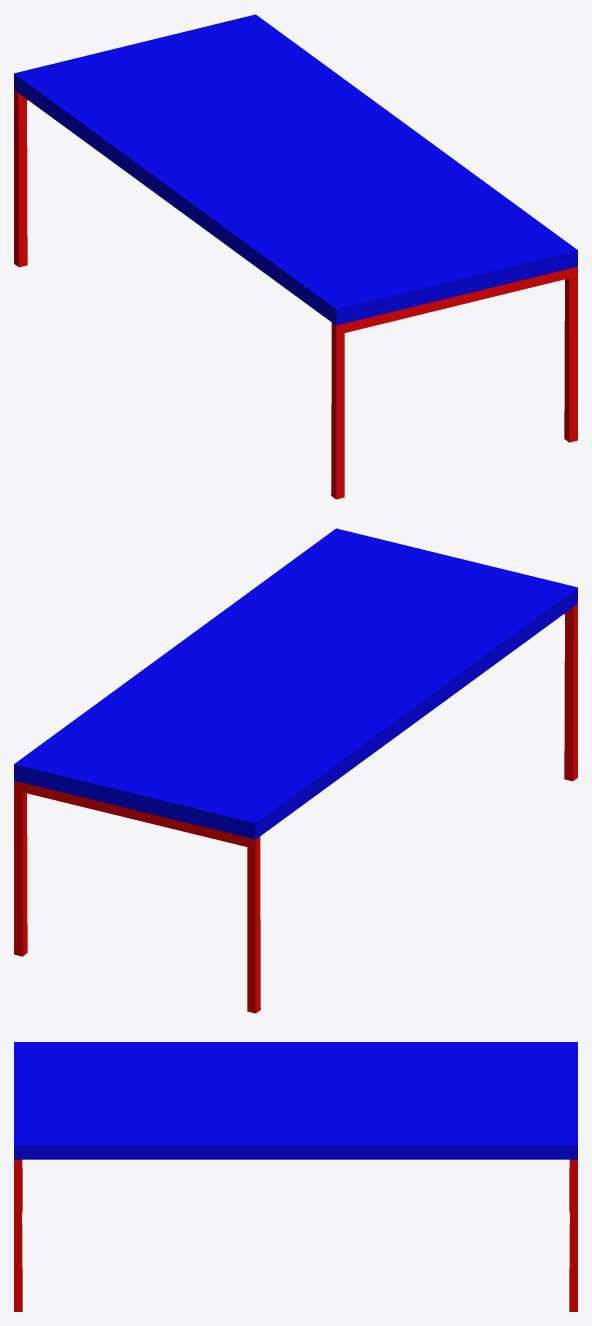
File: MetalTable 1.fbx
The picture shows the model from 3 angles, top to bottom: view 1: azimuth 30°, elevation 25°; view 2: azimuth 150°, elevation 25°; view 3: azimuth 270°, elevation 25°; orthographic projection. The views are drawn at different scales.
Parts seen in each view (by area): view 1: Cube.001; view 2: Cube.001; view 3: Cube.001.
Boxes of the visible parts, box(x1,y1,x2,y2) form: Cube.001: box(14, 14, 577, 499); Cube.001: box(14, 528, 577, 1013); Cube.001: box(14, 1042, 577, 1311).
Bounding box in the file's own units: 243 × 105 × 79.33.
